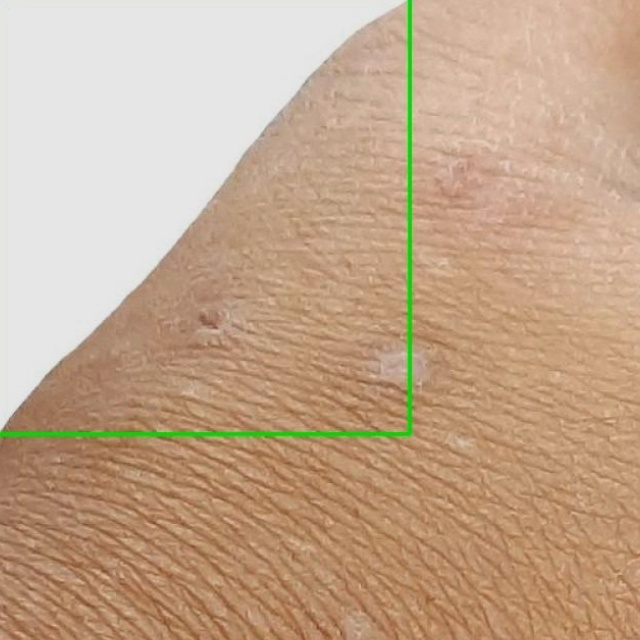Scabies: (0, 0, 410, 433)
